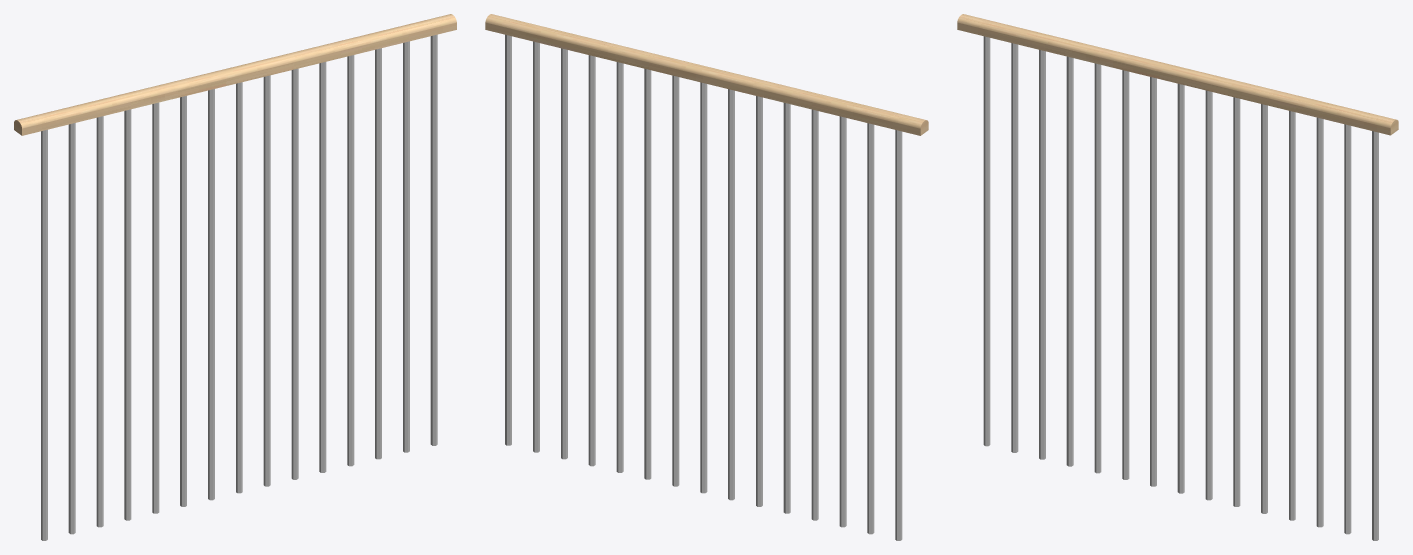
The model's file is sweethome3d-contributions-handrail-452.glb.
3 views of the same model, side by side, from view 1: azimuth 30°, elevation 25°; view 2: azimuth 150°, elevation 25°; view 3: azimuth 330°, elevation 25° (orthographic).
Parts seen in each view (by area): view 1: 14_14, 1_1; view 2: 14_14, 1_1; view 3: 14_14, 1_1.
Part boxes in pixels (x1,y1,x2,y2): 14_14: (41,34,437,540); 1_1: (14,14,456,135); 14_14: (505,34,902,540); 1_1: (485,14,928,135); 14_14: (983,36,1378,540); 1_1: (957,14,1398,135).
Size of the model in its own units: 94 by 87.78 by 3.
Materials: 2 (1 with a texture image).
